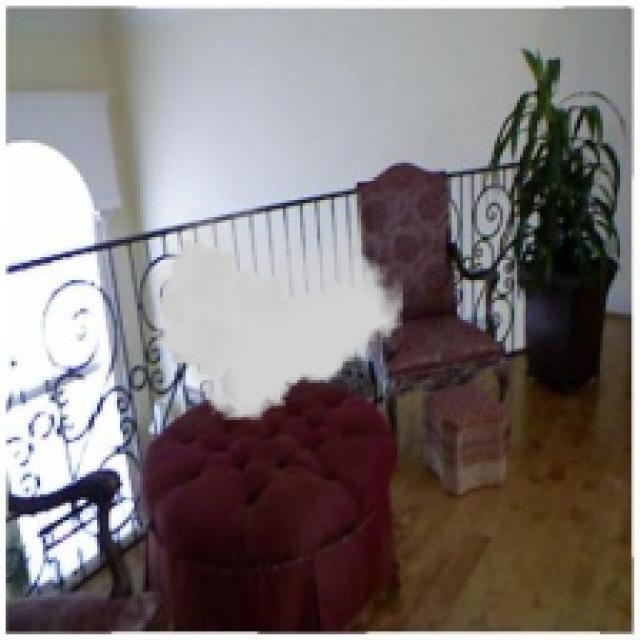smoke: (148, 209, 403, 420)
